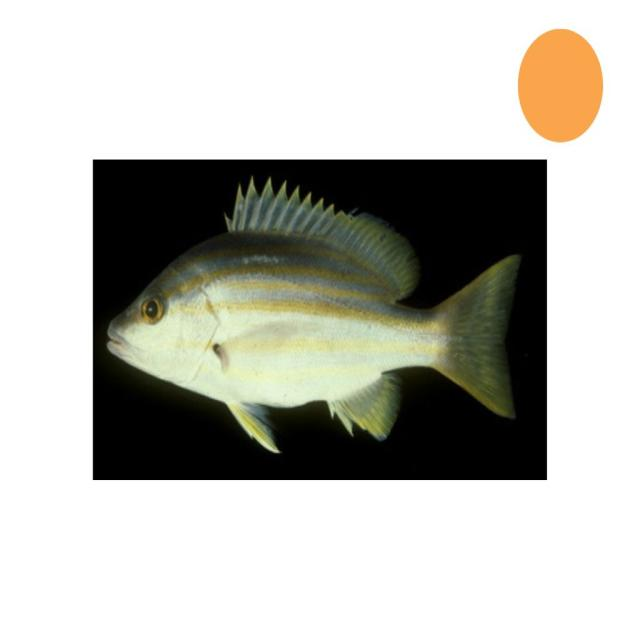ikan: (105, 174, 523, 455)
